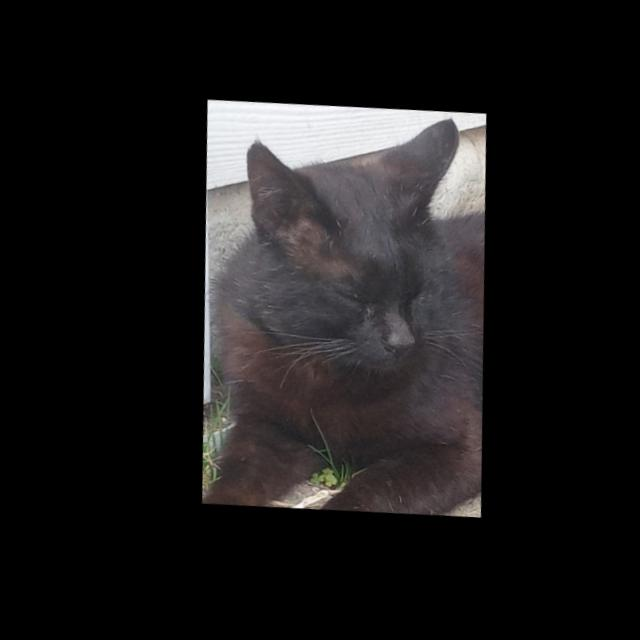animals: (219, 96, 491, 398)
